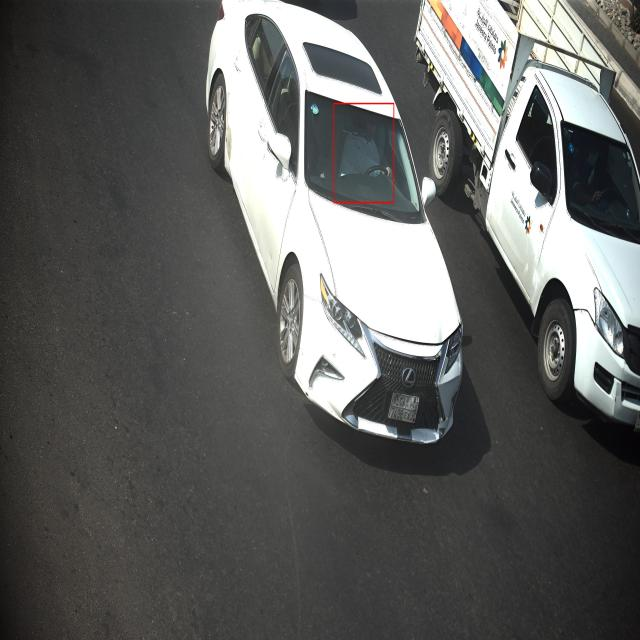windshield: (298, 86, 424, 230), (556, 113, 640, 256)
